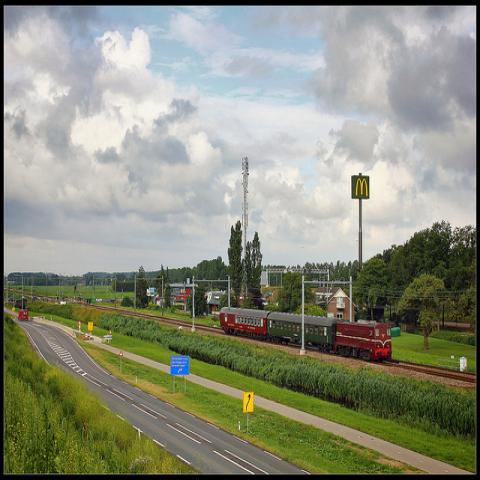truck: (18, 310, 29, 321)
